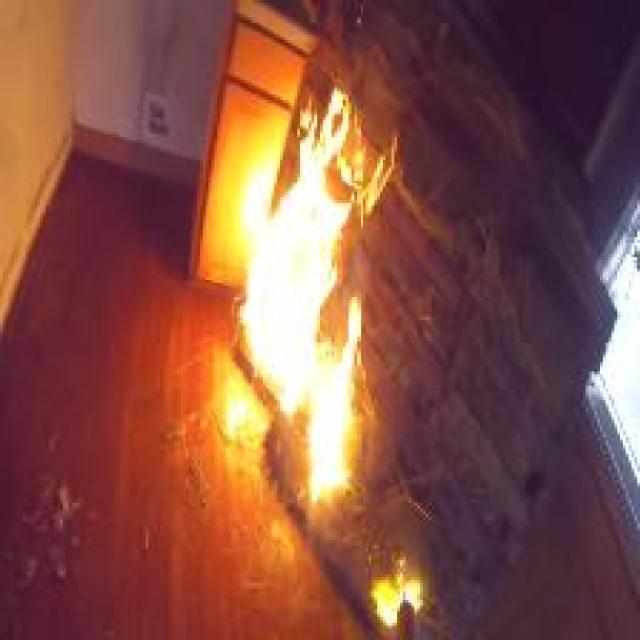fire: (227, 105, 400, 503)
